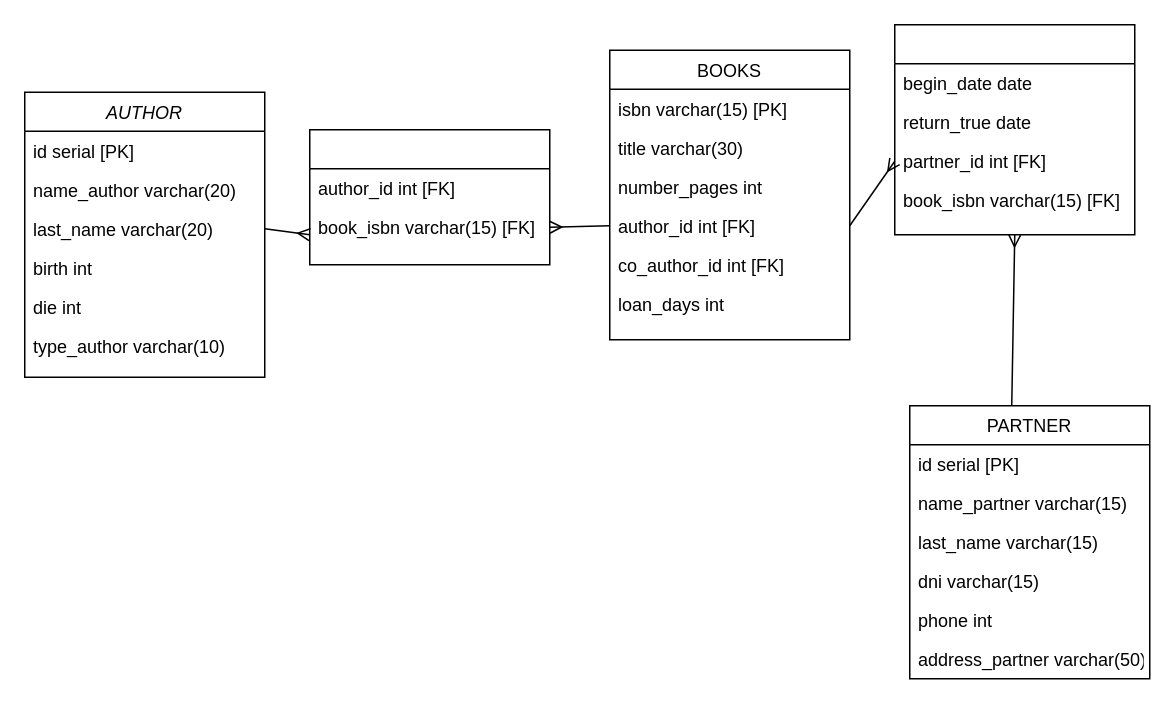
This 1175x704 diagram has some shape labels left out. Here are the shapes that lost their labels. From the top down, the box of each, then its label:
(893, 23, 1135, 235): LOAN
(308, 128, 550, 265): AUTHOR_BOOKS
